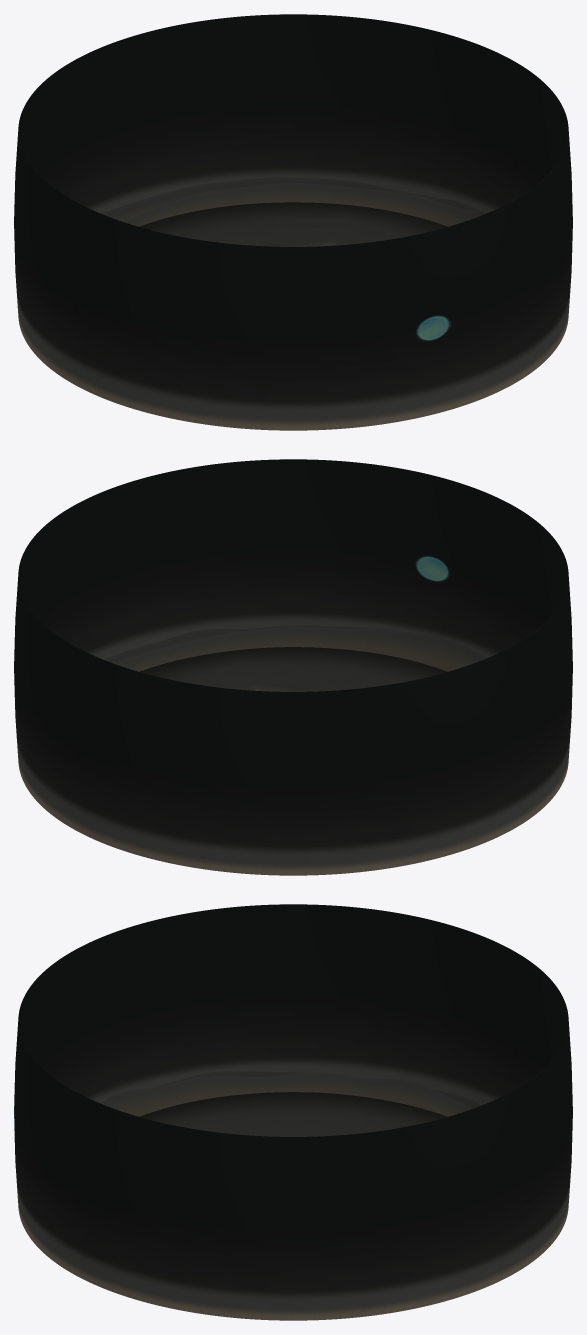
The model's file is mare-claim-panorama.glb.
3 renders of one model, top to bottom at view 1: azimuth 30°, elevation 25°; view 2: azimuth 150°, elevation 25°; view 3: azimuth 270°, elevation 25°, orthographic.
Visible parts, largest first — view 1: MareClaimPanorama; view 2: MareClaimPanorama; view 3: MareClaimPanorama.
Part boxes in pixels (x1,y1,x2,y2): MareClaimPanorama: (14,14,572,430); MareClaimPanorama: (14,459,572,875); MareClaimPanorama: (14,904,572,1320).
Bounding box in the file's own units: 386 × 140 × 386.
1 material, 1 textured.
